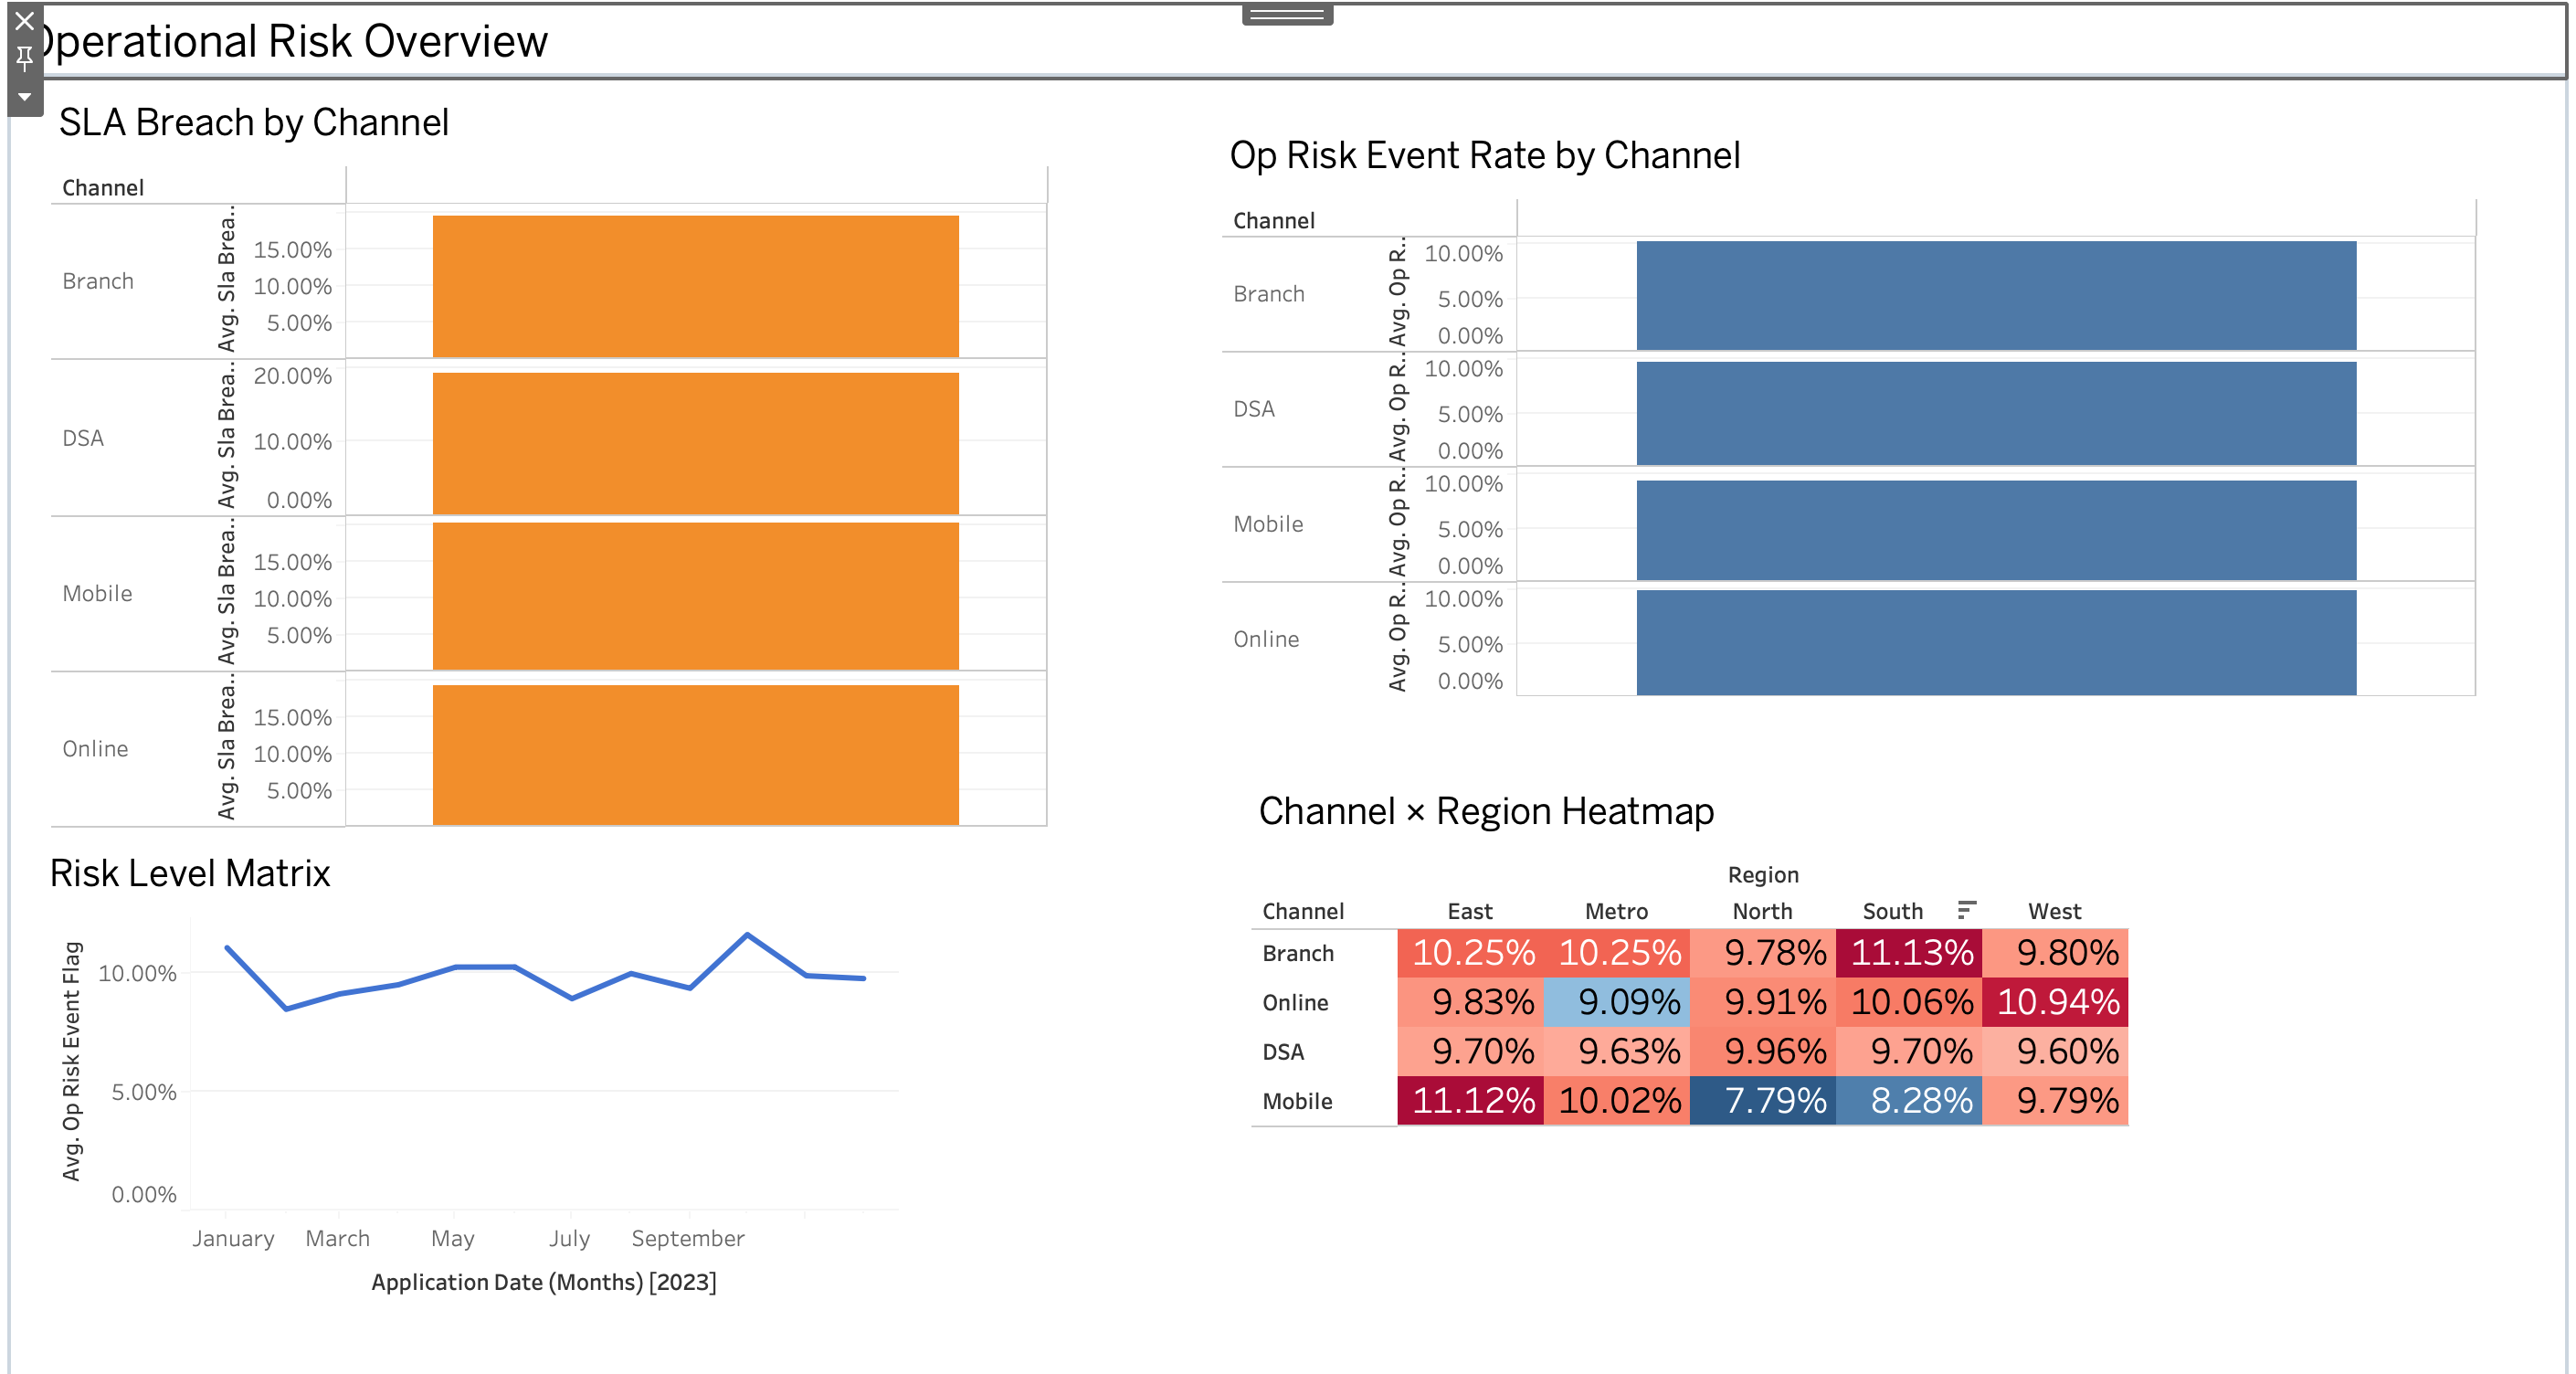

The dashboard page shown, as its layout file describes it:
{"tool":"tableau","page":{"name":"Dashboard 1","canvas":[1000,1000],"units":"permille","ordinal":0},"visuals":[{"type":"title","box":[5.7,10.4,988.7,50.8]},{"type":"worksheet","title":"Sheet 2","mark":"Automatic","rows":["channel","sla_breach_flag"],"box":[21.2,71.9,386.5,524.5]},{"type":"worksheet","title":"Sheet 3","mark":"Automatic","rows":["channel","op_risk_event_flag"],"box":[474.4,94.8,485.8,408.3]},{"type":"worksheet","title":"Sheet 4","mark":"Square","rows":["channel"],"cols":["region"],"box":[485.8,562.7,419,426.6]},{"type":"worksheet","title":"Sheet 6","mark":"Line","rows":["op_risk_event_flag"],"cols":["Application Date (Months)"],"box":[17.9,607,332,333.3]}]}

Visuals, with their boxes on the dashboard's canvas, which has no fixed pixel size, in thousandths of its width and height (x1, y1, x2, y2). These are canvas units, not pixel positions in the 2576x1374 screenshot, which may show the page scaled, cropped or inside an application window:
title: (6,10,994,61)
"Sheet 2" worksheet: (21,72,408,596)
"Sheet 3" worksheet: (474,95,960,503)
"Sheet 4" worksheet (Square marks): (486,563,905,989)
"Sheet 6" worksheet (Line marks): (18,607,350,940)
